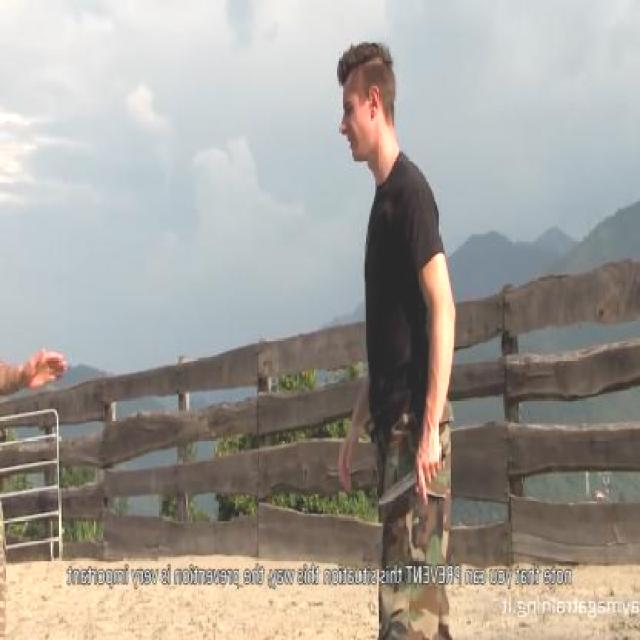knife: (375, 437, 451, 514)
